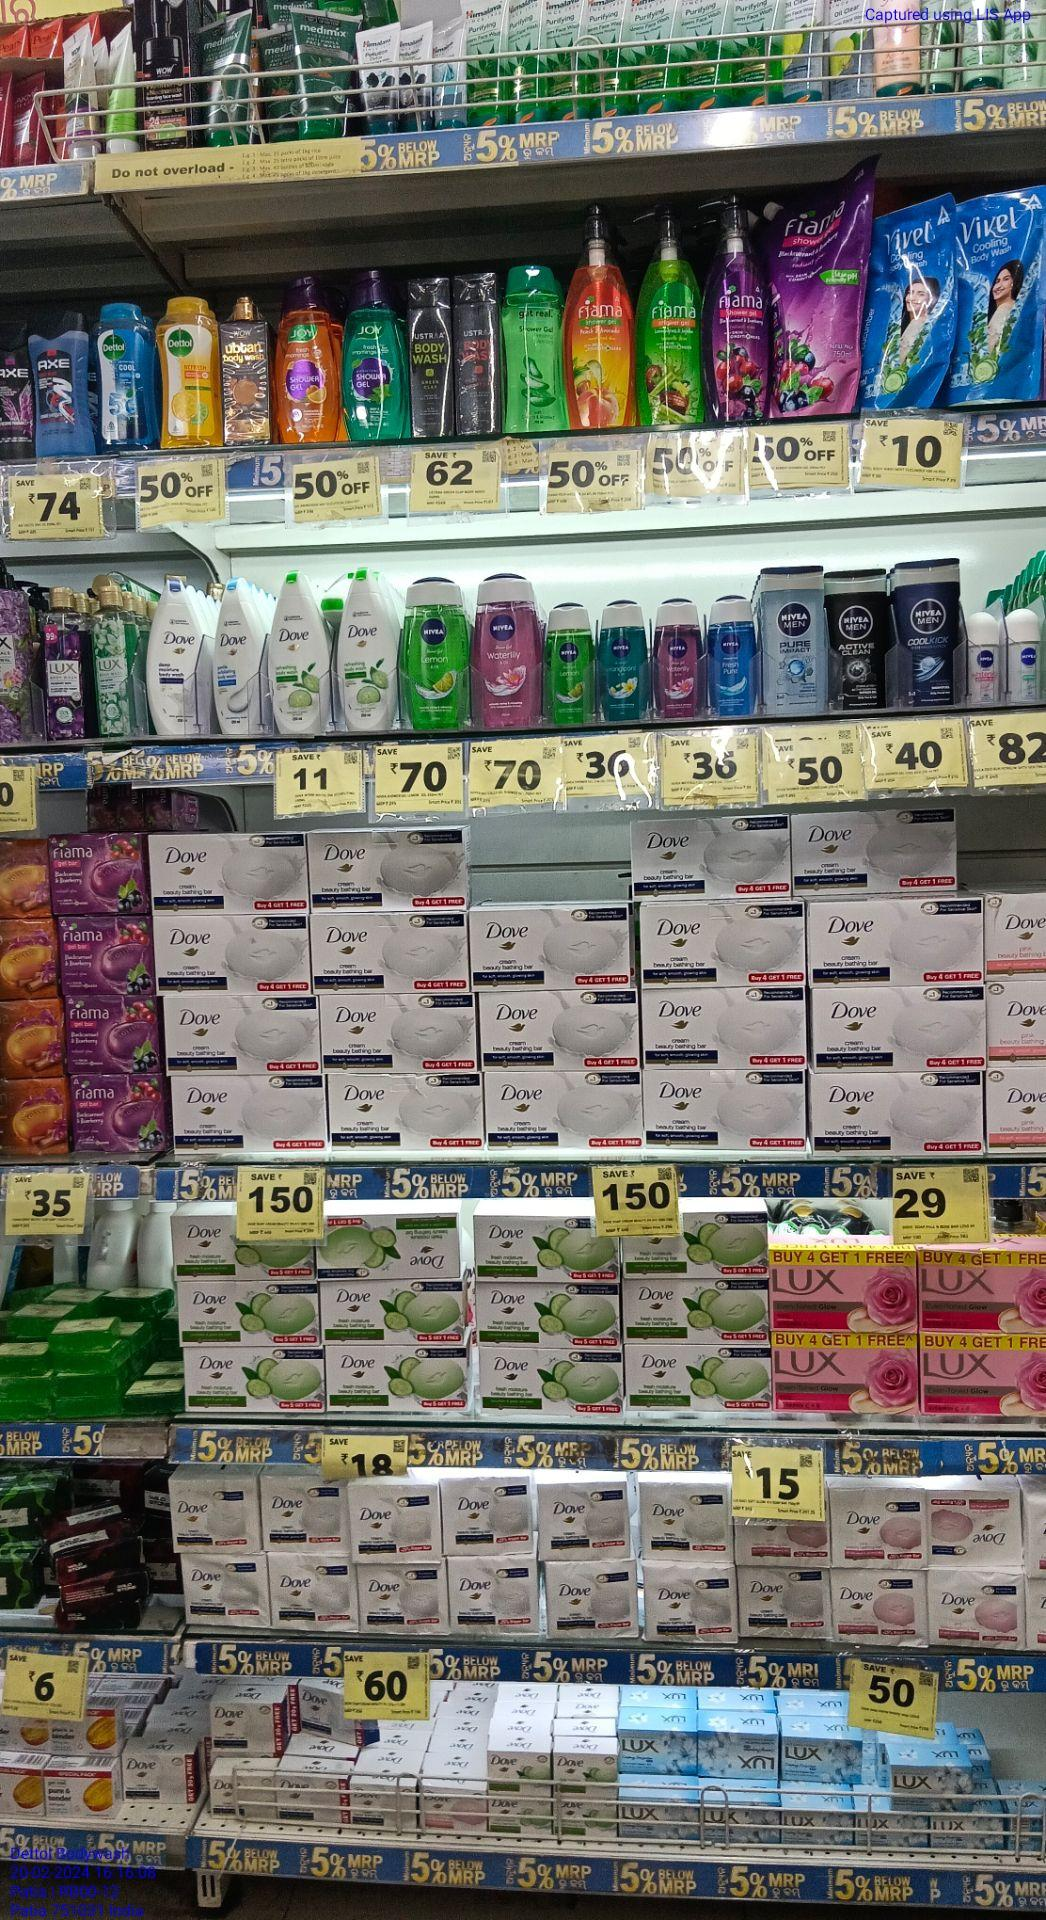Dettol_Bodywash_Cool: (98, 303, 153, 451)
Dettol_Bodywash_Refresh: (157, 301, 224, 447)
Dove_Deep_Moisture_Body_Wash_250ML: (146, 576, 201, 735)
Dove_Gentle_Exfoliating_Body_Wash_250ML: (213, 578, 260, 735)
Dove_Refreshing_Body_Wash_250ML: (335, 568, 394, 730), (267, 573, 322, 733)
Joy_Shower_Gel_Mandarin_and_Lemongrass_250ML: (276, 282, 339, 443)
Joy_Shower_Gel_Mint_and_Eucalyptus_250ML: (344, 274, 404, 440)
Lux_Black_Orchid_Scent_and_Juniper_Oil_Body_Wash_245ML: (43, 586, 82, 740)
Lux_Body_Wash_Skin_Detox_Freesia_Scent_and_Alove_Vera_245ML: (91, 585, 130, 735)
Nivea_Shower_Gel_Lemon_and_Oil_250ML: (401, 577, 466, 730)
Nivea_Shower_Gel_Waterlily_and_Oil_250ML: (471, 579, 541, 725)
